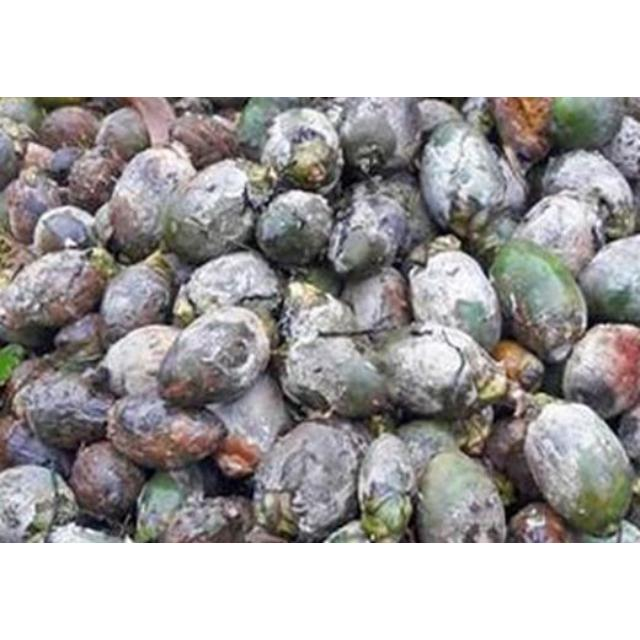damaged: (522, 401, 634, 537), (252, 416, 372, 540), (486, 238, 590, 362), (156, 306, 272, 408), (404, 248, 504, 352), (280, 330, 394, 420), (165, 160, 261, 264), (1, 248, 110, 338), (107, 390, 227, 470), (413, 449, 509, 543), (176, 250, 284, 330), (20, 363, 116, 453), (538, 150, 636, 238), (325, 190, 411, 280), (510, 195, 604, 277), (260, 106, 344, 194), (98, 252, 178, 342), (334, 98, 422, 176), (67, 440, 145, 526), (254, 189, 336, 269), (98, 324, 182, 401)
